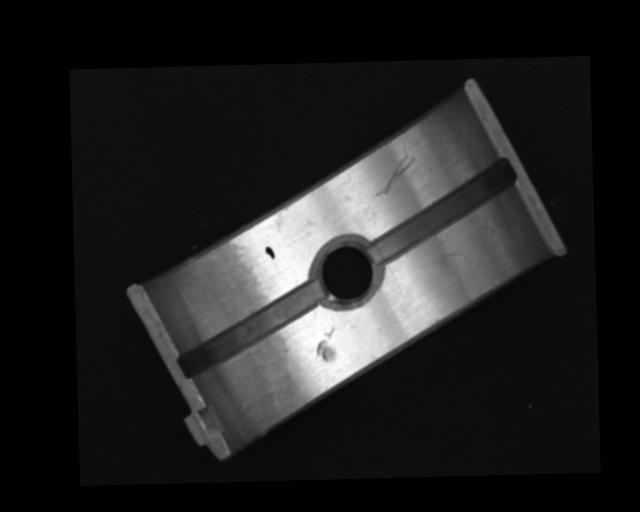blot: (265, 245, 275, 260)
bruise: (315, 324, 336, 364)
gap: (368, 158, 519, 266), (175, 281, 324, 379)
hole: (313, 237, 383, 307)
nick: (374, 153, 416, 199), (441, 252, 467, 260)
